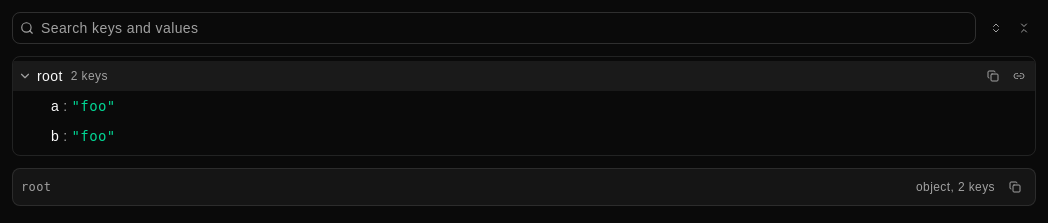
JsonTree › steps through matches from the search box
This screenshot has width=1048, height=223.
Type "foo" into the search field named "Search JSON" at (494, 28), box [12,12,976,44]
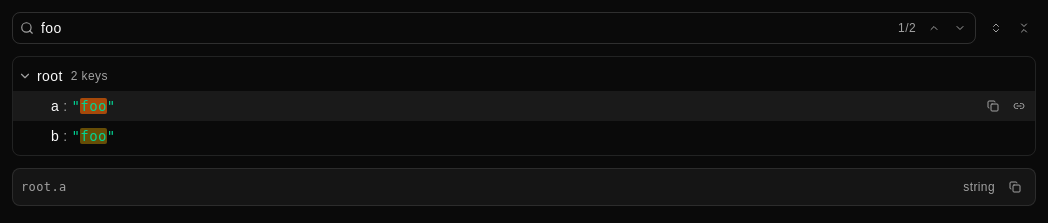
expect the text "1/2" is shown: met, box [898,21,916,35]
Press Enter in the search field named "Search JSON", box [12,12,976,44]
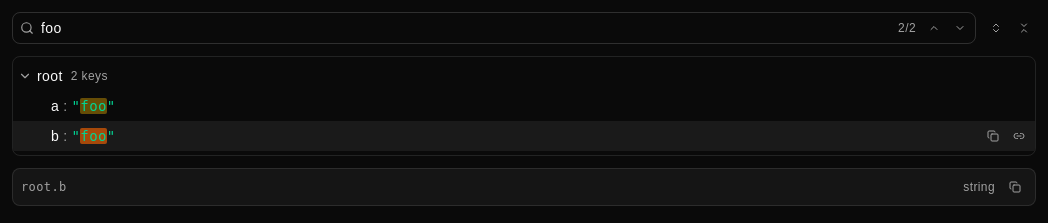
expect the text "2/2" is shown: met, box [898,21,916,35]
Press Enter in the search field named "Search JSON", box [12,12,976,44]
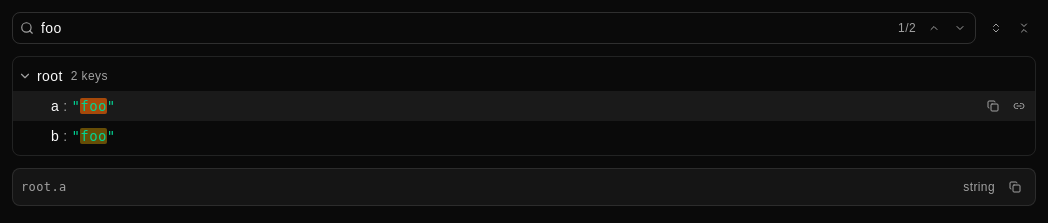
expect the text "1/2" is shown: met, box [898,21,916,35]
